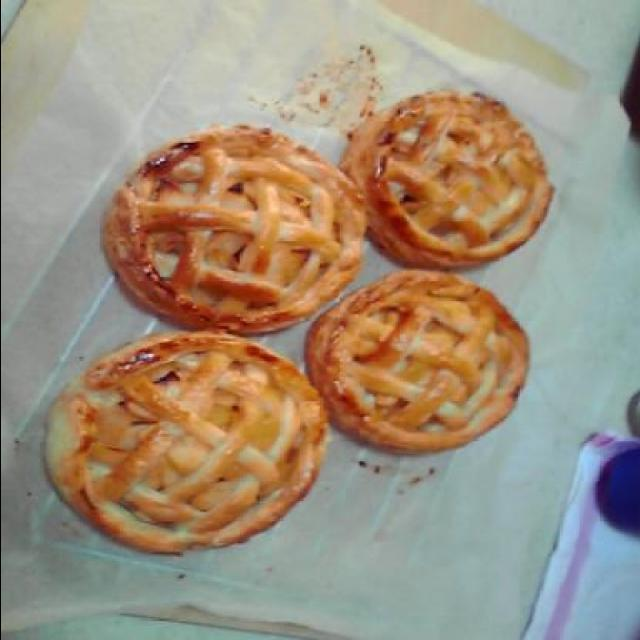Apple: (34, 336, 326, 554), (112, 98, 366, 330), (324, 273, 524, 456), (371, 90, 558, 264)
